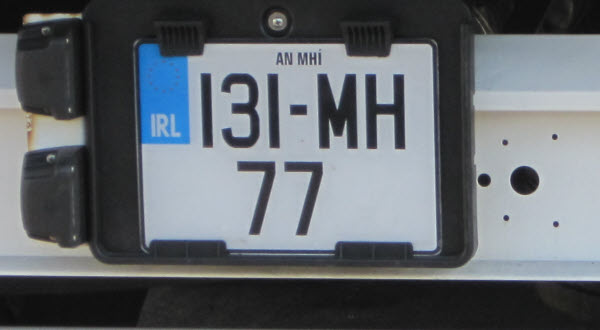license_plate: (134, 38, 442, 257)
